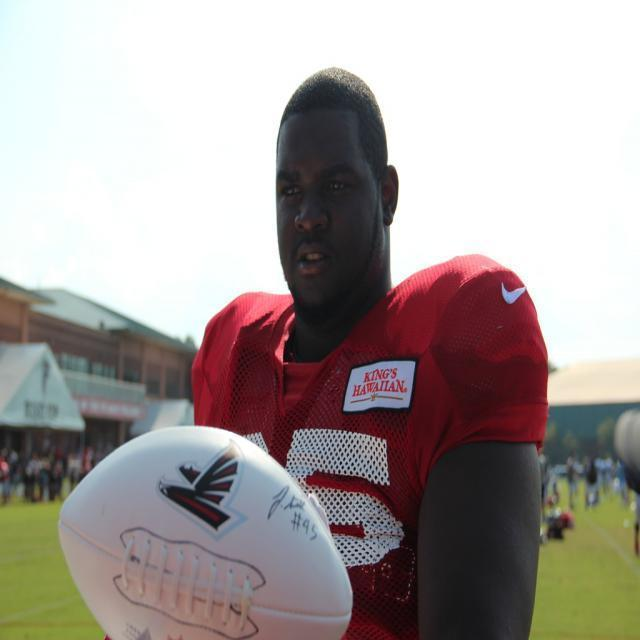ball: (57, 425, 358, 640)
